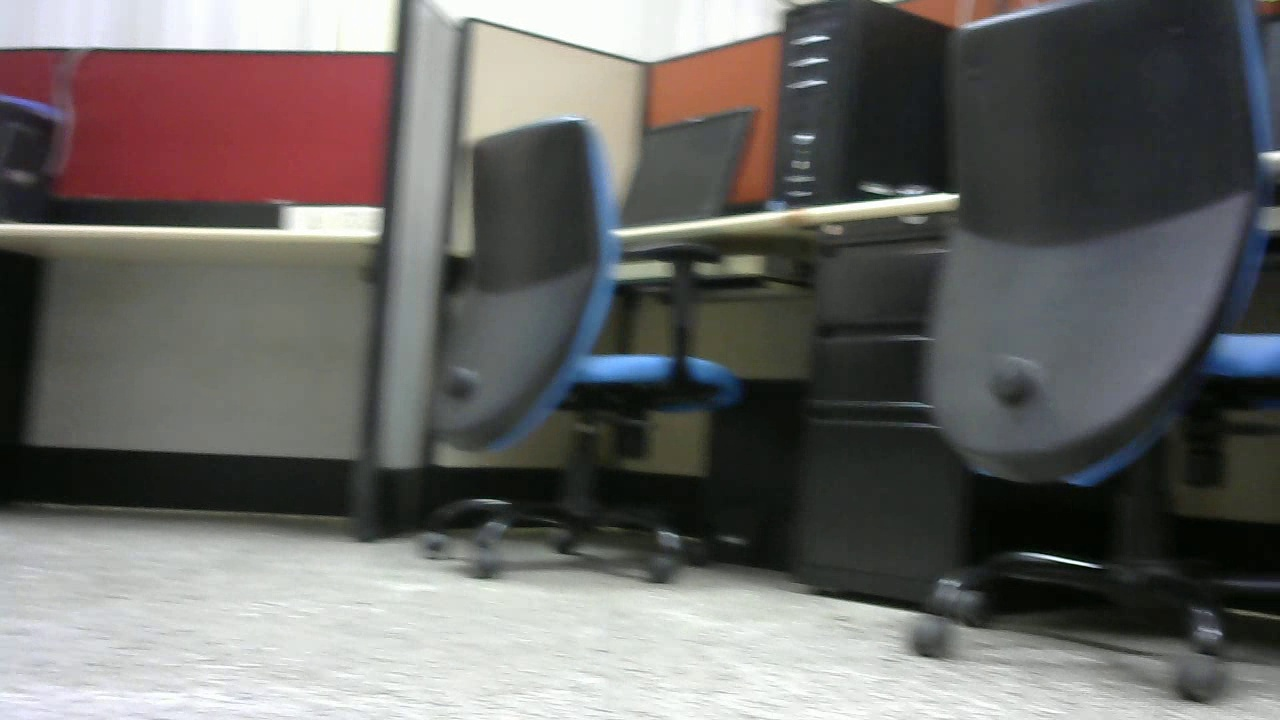chair: (415, 119, 748, 590)
